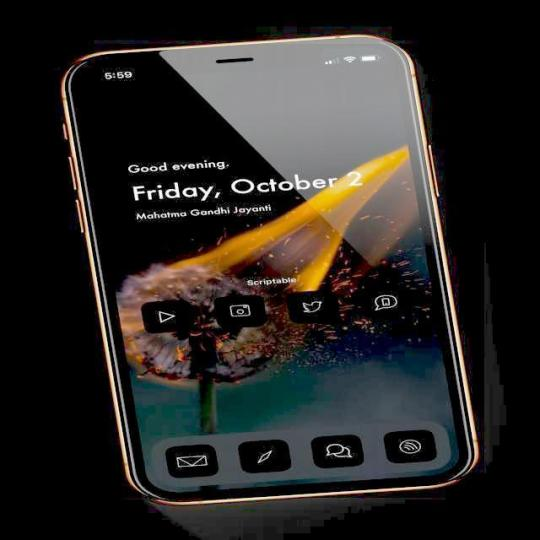phone: (52, 24, 484, 509)
